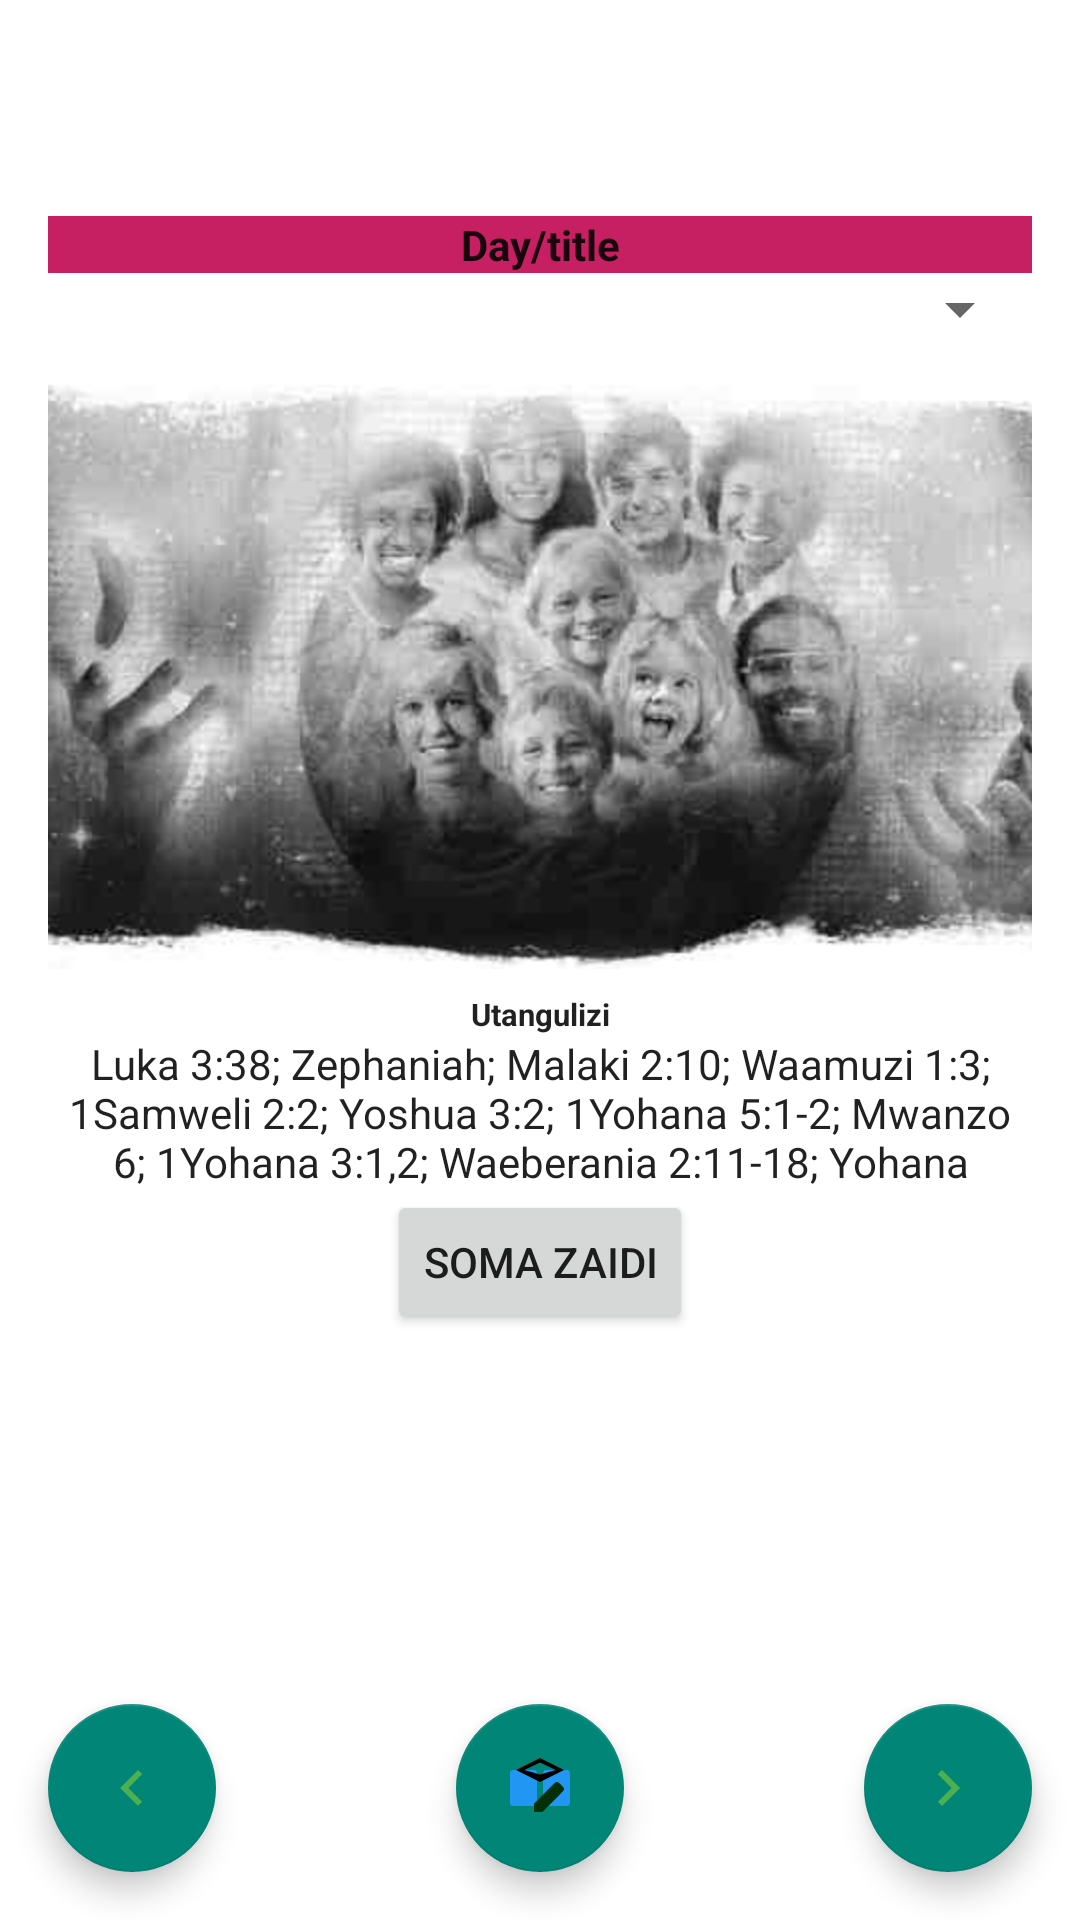

Point at icon controls on the screen. Image size 1080px x 1920px, points as (x=x, y=y).
arrow left: (x=132, y=1788)
arrow right: (x=948, y=1788)
teacher guide: (x=540, y=1788)
